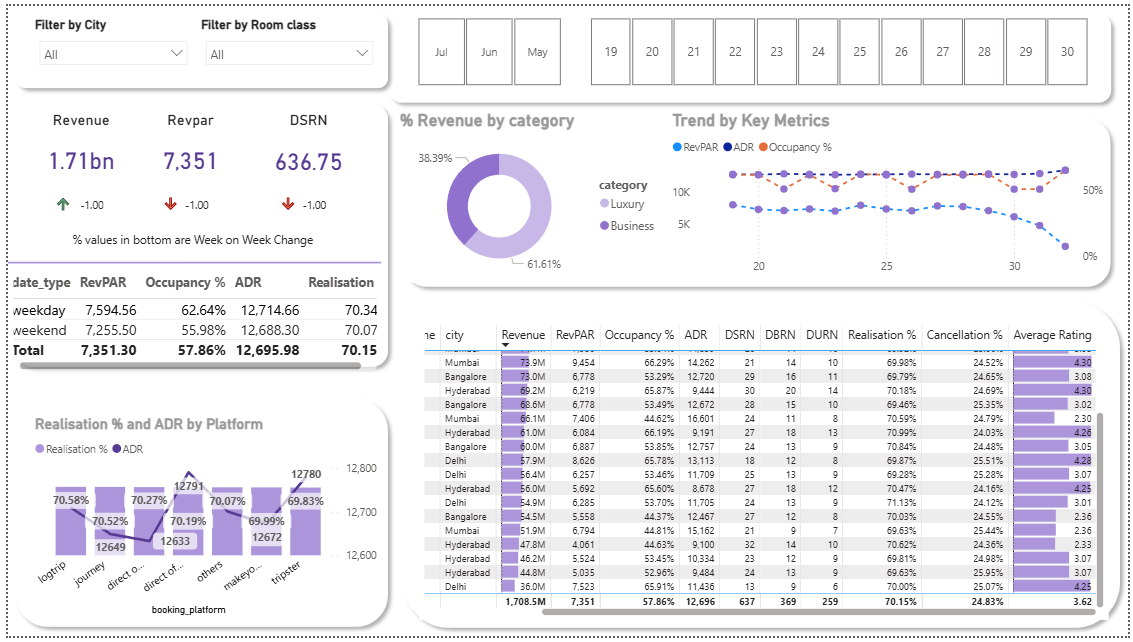

What the dashboard file says about the page in this screenshot:
{"tool":"powerbi","page":{"name":"Page 2","canvas":[1280,720],"ordinal":1},"visuals":[{"type":"shape","box":[426.8,0,842.5,119.4],"z":0},{"type":"shape","box":[0,0,443.2,102.9],"z":1000},{"type":"shape","box":[0,102.9,443.2,318.4],"z":2000},{"type":"shape","box":[443.2,119.4,826.1,209.9],"z":4000},{"type":"slicer","title":"Filter by City","fields":{"Values":["dim_hotels.city"]},"box":[26.1,12.3,189.4,71.4],"z":5000},{"type":"shape","box":[443.2,329.3,837.1,389.7],"z":5500},{"type":"tableEx","fields":{"Values":["dim_hotels.property_id","dim_hotels.property_name","dim_hotels.city","key_measures_kpi.Revenue","key_measures_kpi.RevPAR","key_measures_kpi.Occupancy %","key_measures_kpi.ADR","key_measures_kpi.DSRN","key_measures_kpi.DBRN","key_measures_kpi.DURN","key_measures_kpi.Realisation %","key_measures_kpi.Cancellation %"]},"box":[469.3,359.5,787.7,341.7],"z":5750},{"type":"slicer","title":"Filter by Room class","fields":{"Values":["dim_rooms.room_class"]},"box":[215.4,12.3,211.3,71.4],"z":6000},{"type":"slicer","title":"Filter by Room class","fields":{"Values":["dim_date.Month Name"]},"box":[443.2,6.9,212.7,90.6],"z":7000},{"type":"slicer","title":"Filter by Room class","fields":{"Values":["dim_date.week no"]},"box":[639.5,6.9,617.5,90.6],"z":8000},{"type":"card","title":"Revenue","fields":{"Values":["key_measures_kpi.Revenue"]},"box":[0,119.4,167.4,93.3],"z":9000},{"type":"tableEx","fields":{"Values":["key_measures_kpi.Revenue WoW change %"]},"box":[43.9,192.1,82.3,60.4],"z":10000},{"type":"tableEx","fields":{"Values":["dim_date.date_type","key_measures_kpi.RevPAR","key_measures_kpi.Occupancy %","key_measures_kpi.ADR","key_measures_kpi.Realisation %"]},"box":[0,300.5,426.8,120.8],"z":11000},{"type":"shape","box":[0,440.5,443.2,278.6],"z":11500},{"type":"lineChart","title":"Trend by Key Metrics","fields":{"Y2":["key_measures_kpi.Occupancy %"],"Y":["key_measures_kpi.RevPAR","key_measures_kpi.ADR"],"Category":["dim_date.week no"]},"box":[754.7,119.4,502.2,196.2],"z":12000},{"type":"lineStackedColumnComboChart","title":"Realisation % and ADR by Platform","fields":{"Category":["fact_bookings.booking_platform"],"Y":["key_measures_kpi.Realisation %"],"Y2":["key_measures_kpi.ADR"]},"box":[26.1,466.6,400.7,234.6],"z":13000},{"type":"donutChart","title":"% Revenue by category","fields":{"Category":["dim_hotels.category"],"Y":["key_measures_kpi.Revenue"]},"box":[443.2,119.4,311.5,196.2],"z":14000},{"type":"card","title":"Revpar","fields":{"Values":["key_measures_kpi.RevPAR"]},"box":[126.2,119.4,166,93.3],"z":15000},{"type":"card","title":"DSRN","fields":{"Values":["key_measures_kpi.DSRN"]},"box":[259.3,119.4,167.4,94.7],"z":16000},{"type":"textbox","box":[68.6,252.5,307.4,32.9],"z":17000},{"type":"shape","box":[0,285.4,426.8,15.1],"z":18000},{"type":"tableEx","fields":{"Values":["key_measures_kpi.Revpar WoW change %"]},"box":[167.4,192.1,82.3,60.4],"z":19000},{"type":"tableEx","fields":{"Values":["key_measures_kpi.DSRN WoW change %"]},"box":[301.9,192.1,82.3,60.4],"z":20000}]}

Visuals, with their boxes in screenshot pixels (x1, y1, x2, y2), scaled from the page's 1280x720 canvas onto the 1133x642 screenshot:
shape: left=378, top=0, right=1124, bottom=106
shape: left=0, top=0, right=392, bottom=92
shape: left=0, top=92, right=392, bottom=376
shape: left=392, top=106, right=1124, bottom=294
"Filter by City" slicer: left=23, top=11, right=191, bottom=75
shape: left=392, top=294, right=1132, bottom=641
tableEx - dim_hotels.property_id x dim_hotels.property_name: left=415, top=321, right=1113, bottom=625
"Filter by Room class" slicer: left=191, top=11, right=378, bottom=75
"Filter by Room class" slicer: left=392, top=6, right=581, bottom=87
"Filter by Room class" slicer: left=566, top=6, right=1113, bottom=87
"Revenue" card: left=0, top=106, right=148, bottom=190
tableEx - key_measures_kpi.Revenue WoW change %: left=39, top=171, right=112, bottom=225
tableEx - dim_date.date_type x key_measures_kpi.RevPAR: left=0, top=268, right=378, bottom=376
shape: left=0, top=393, right=392, bottom=641
"Trend by Key Metrics" lineChart: left=668, top=106, right=1113, bottom=281
"Realisation % and ADR by Platform" lineStackedColumnComboChart: left=23, top=416, right=378, bottom=625
"% Revenue by category" donutChart: left=392, top=106, right=668, bottom=281
"Revpar" card: left=112, top=106, right=259, bottom=190
"DSRN" card: left=230, top=106, right=378, bottom=191
textbox: left=61, top=225, right=333, bottom=254
shape: left=0, top=254, right=378, bottom=268
tableEx - key_measures_kpi.Revpar WoW change %: left=148, top=171, right=221, bottom=225
tableEx - key_measures_kpi.DSRN WoW change %: left=267, top=171, right=340, bottom=225
